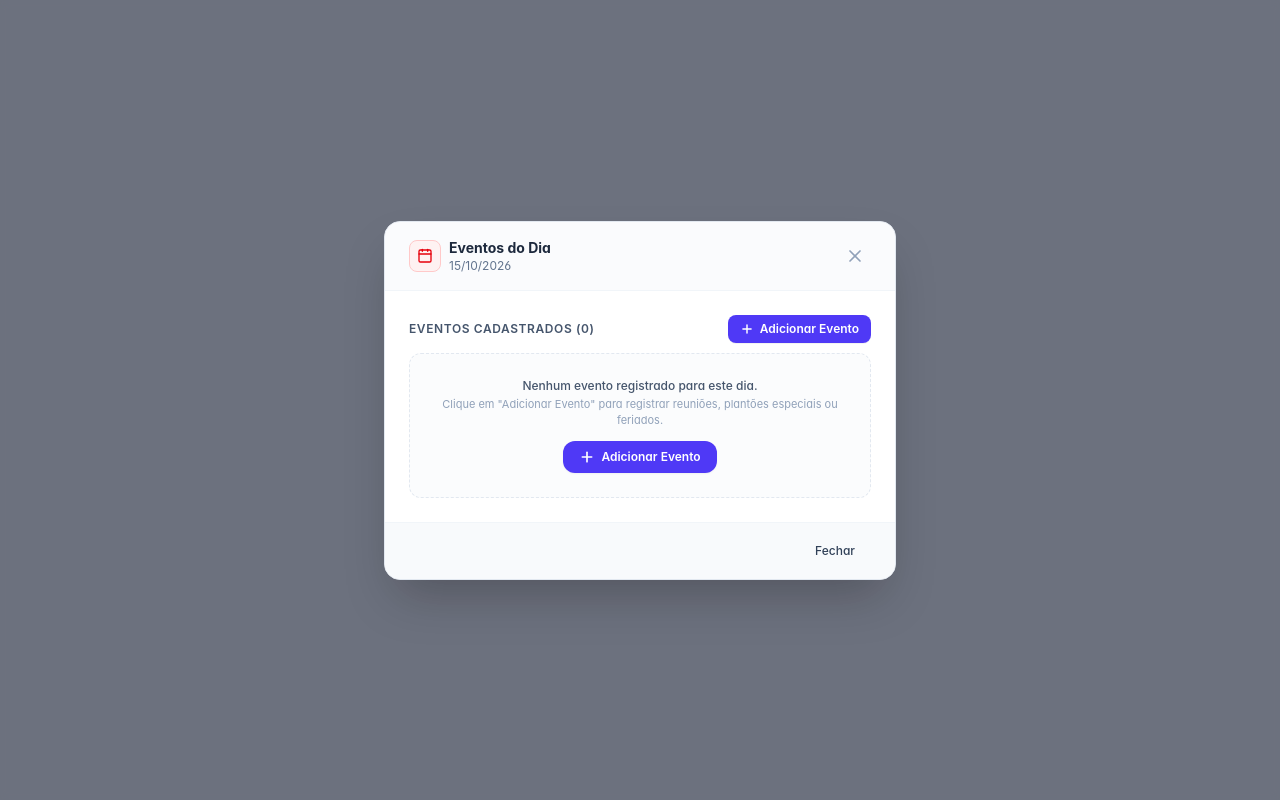
Test: DayEventsModal › copies the address from the form preview
Open the form
Click the button "Adicionar Evento" next to "Eventos Cadastrados (0)" at (799, 328), box [728, 314, 871, 342]
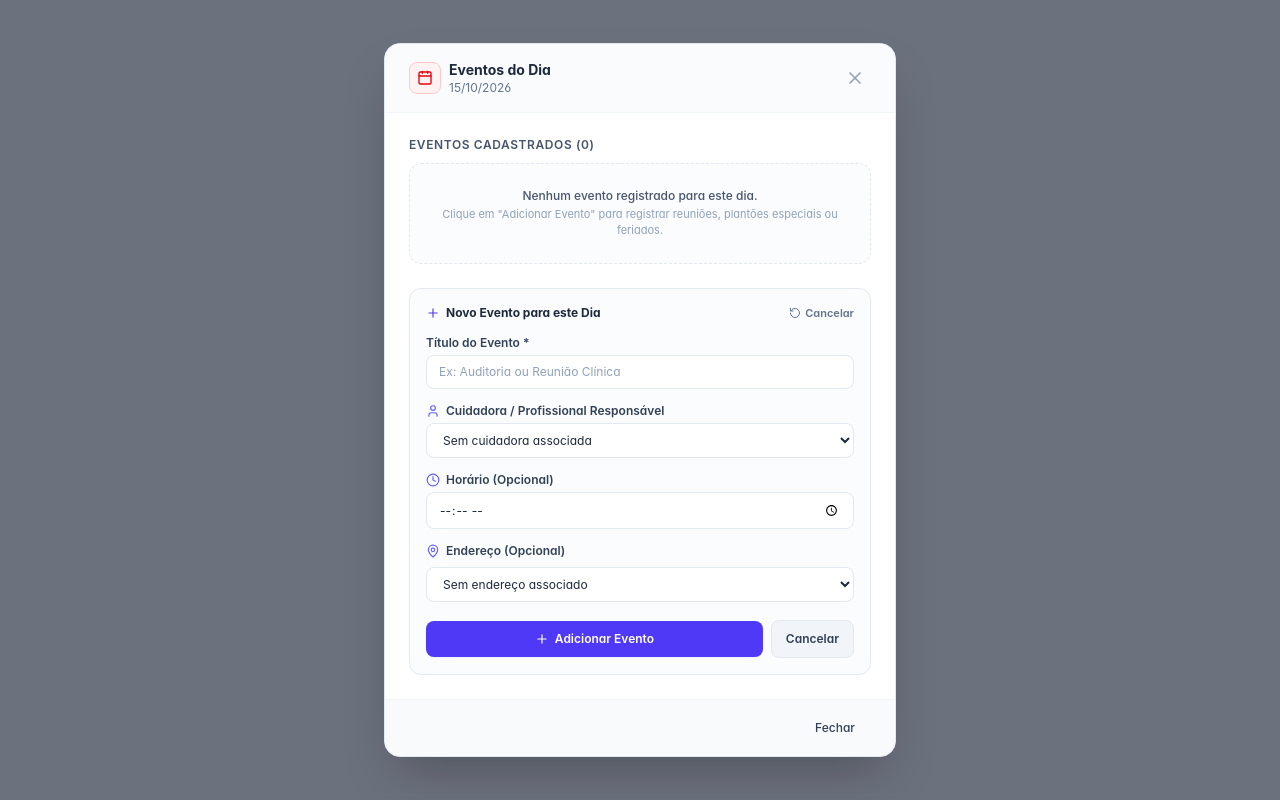
Select "Clínica Paulista — Av Paulista, 1000" in the dropdown named "Selecionar endereço do evento" at (640, 584), box [426, 567, 854, 602]
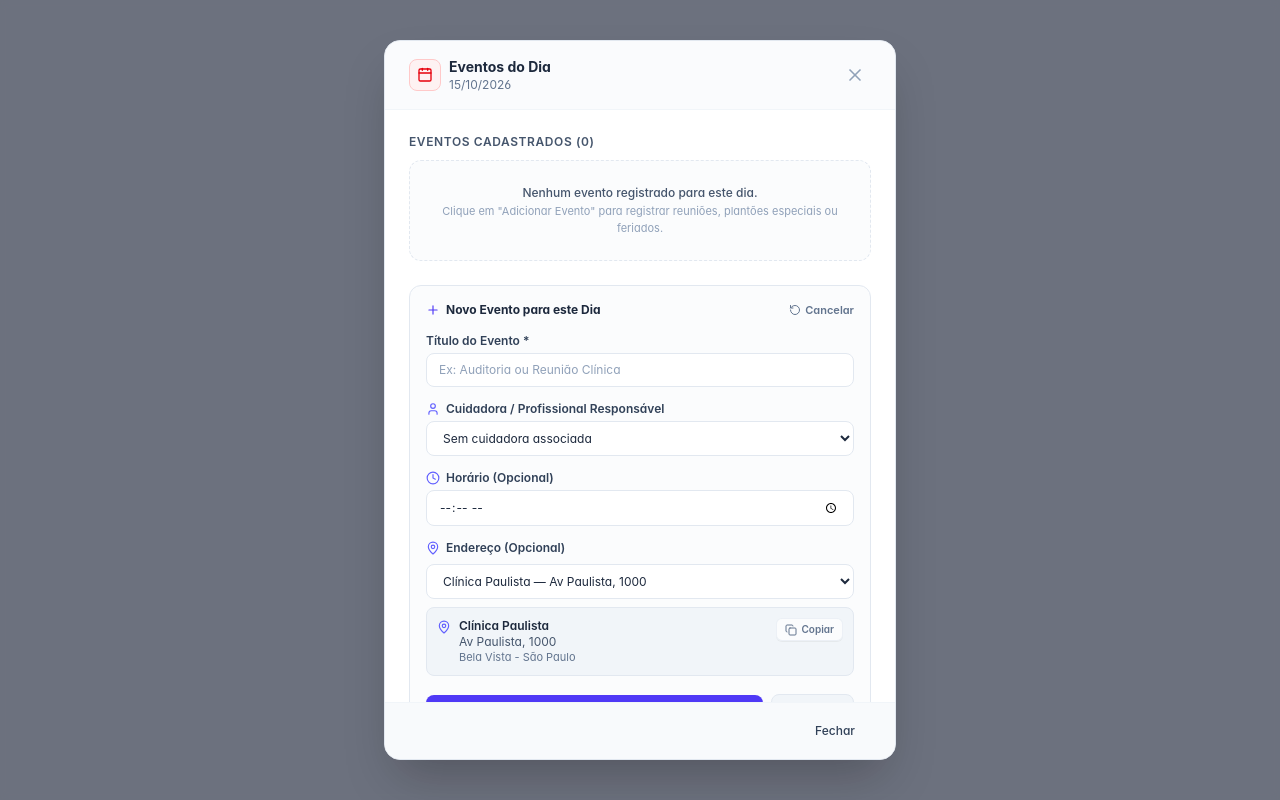
Expected: the button with aria-label "Copiar endereço selecionado" is shown
Click the button with aria-label "Copiar endereço selecionado" at (810, 630), box [776, 618, 843, 641]
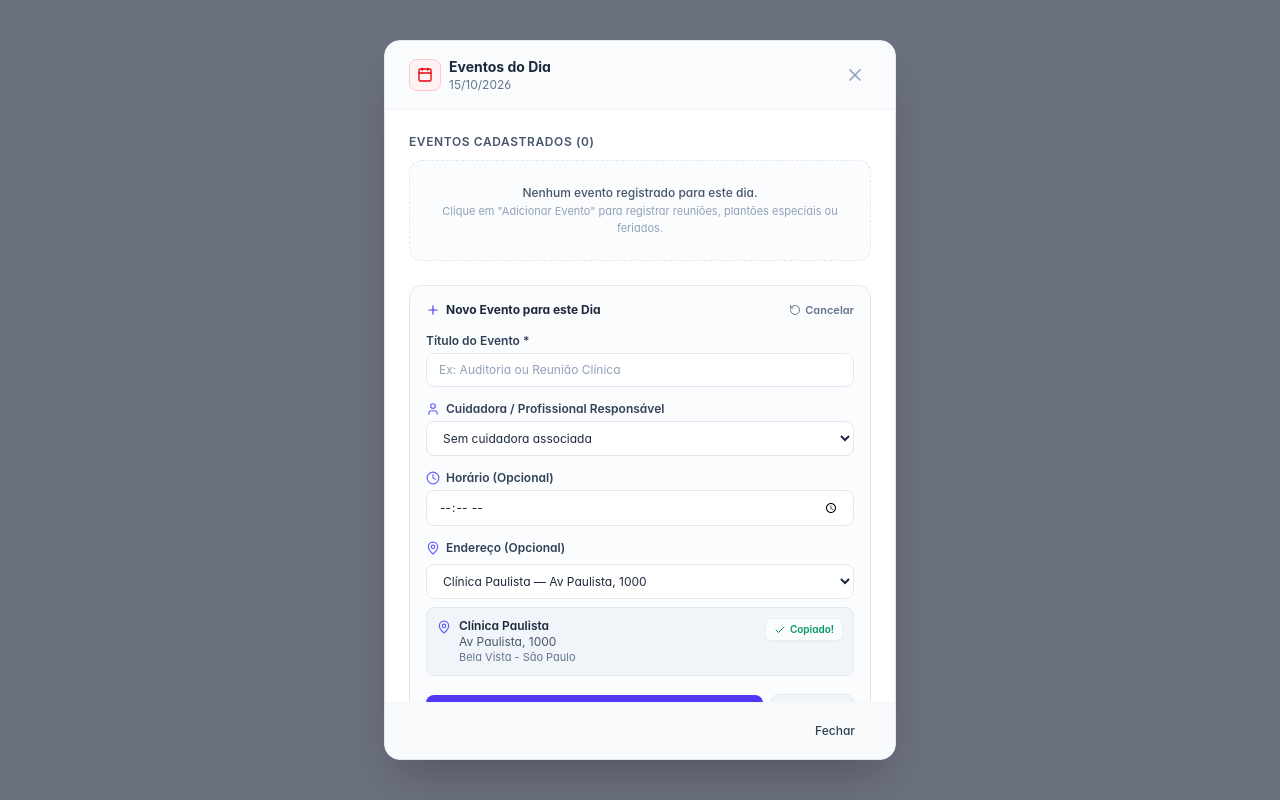
Expected: the text "Copiado!" is shown, [790, 623, 834, 636]
